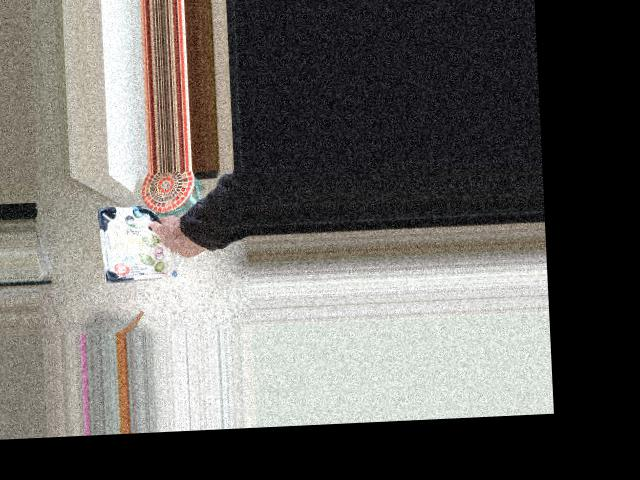cheese: (101, 193, 200, 292)
